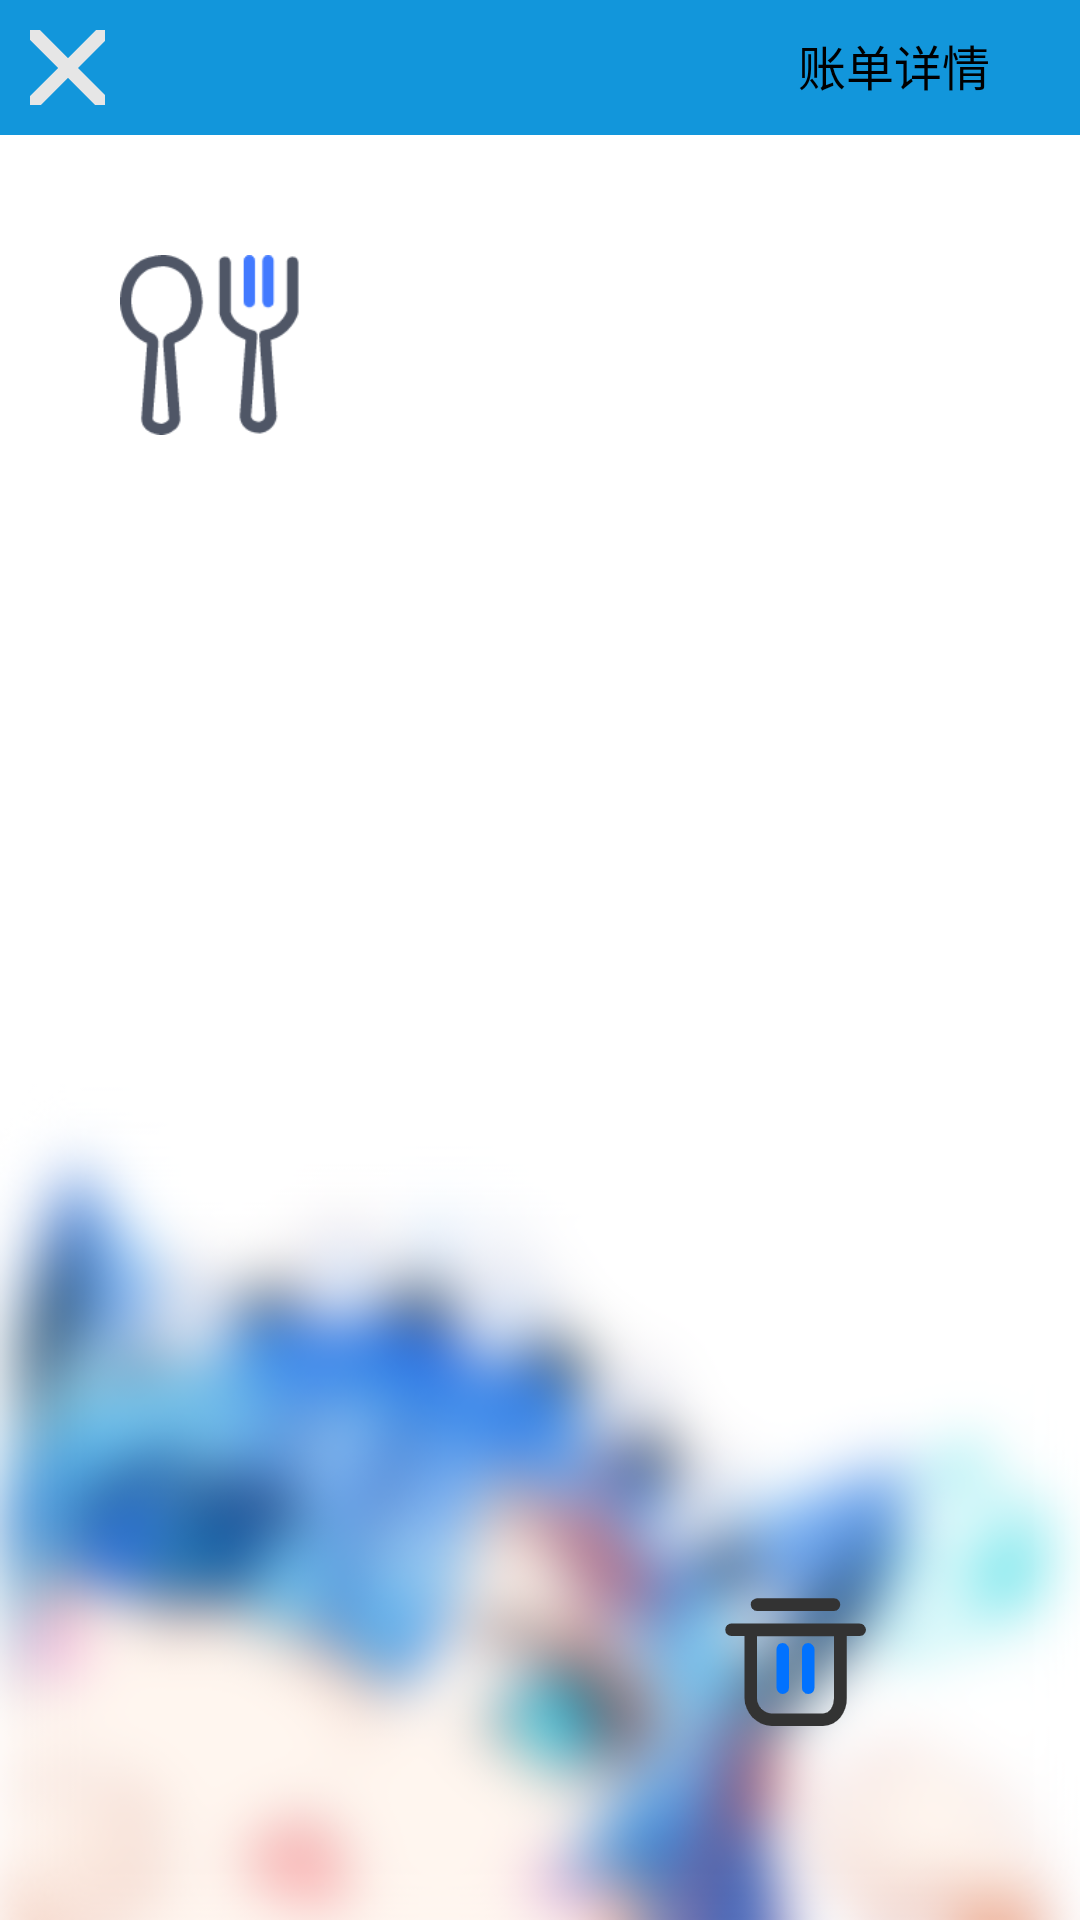

Locate icon controls on the screen. Image size 1080px×1920px, boxes as detection(x1, y1, x2, y2).
close: detection(30, 30, 105, 105)
eat: detection(120, 255, 299, 435)
